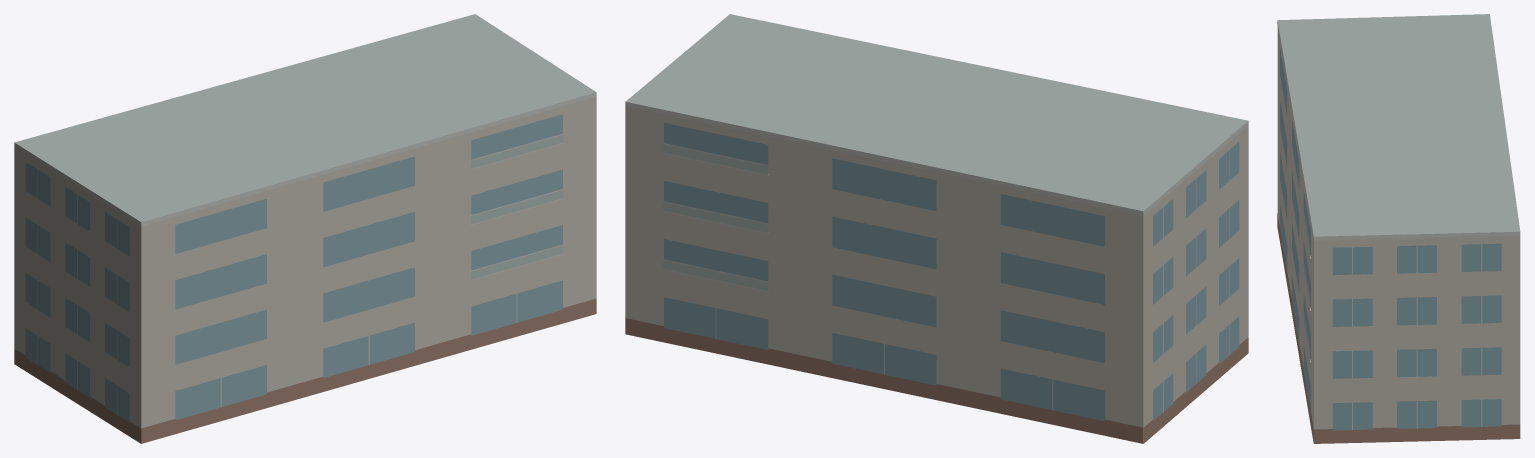
The model's file is survey-upis-32629254.glb.
The picture shows the model from 3 angles, left to right: view 1: azimuth 30°, elevation 25°; view 2: azimuth 150°, elevation 25°; view 3: azimuth 270°, elevation 25°; orthographic projection. The views are drawn at different scales.
Visible parts, largest first — view 1: survey-upis-32629254.tmp; view 2: survey-upis-32629254.tmp; view 3: survey-upis-32629254.tmp.
Boxes of the visible parts, x1,y1,x2,y2 form: survey-upis-32629254.tmp: [14, 14, 596, 443]; survey-upis-32629254.tmp: [625, 14, 1248, 443]; survey-upis-32629254.tmp: [1277, 14, 1520, 443].
Bounding box in the file's own units: 28.82 × 12.5 × 13.29.
